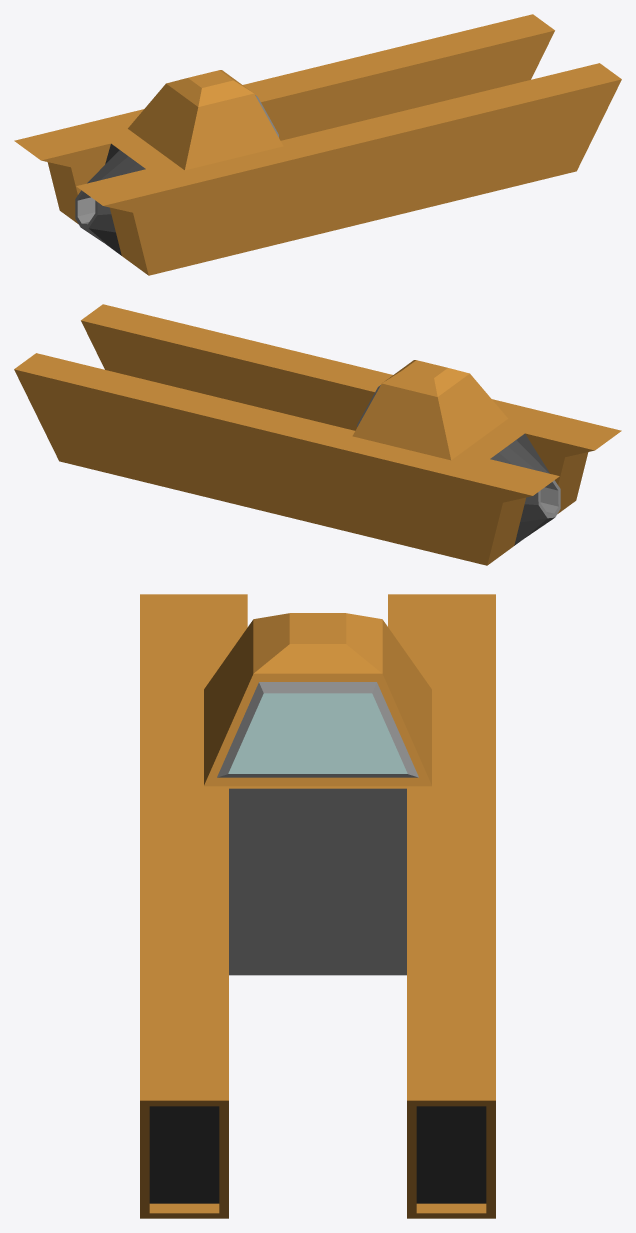
Rendered from shipmodel2.fbx.
3 renders of one model, top to bottom at view 1: azimuth 30°, elevation 25°; view 2: azimuth 150°, elevation 25°; view 3: azimuth 270°, elevation 25°, orthographic. The views are drawn at different scales.
Parts seen in each view (by area): view 1: Cube; view 2: Cube; view 3: Cube.
Part boxes in pixels (x1,y1,x2,y2): Cube: (14, 14, 621, 275); Cube: (14, 304, 621, 565); Cube: (140, 594, 495, 1218).
Bounding box in the file's own units: 673 × 171 × 200.
